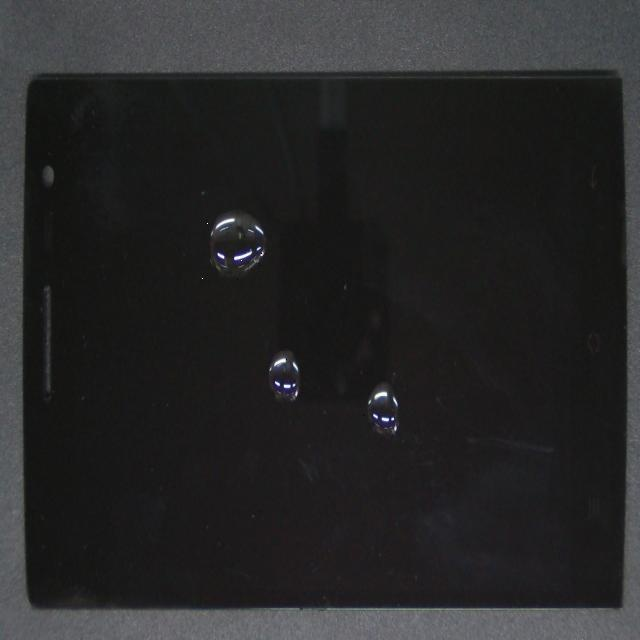oil: (211, 172, 571, 571), (123, 166, 401, 580), (141, 131, 399, 344)
